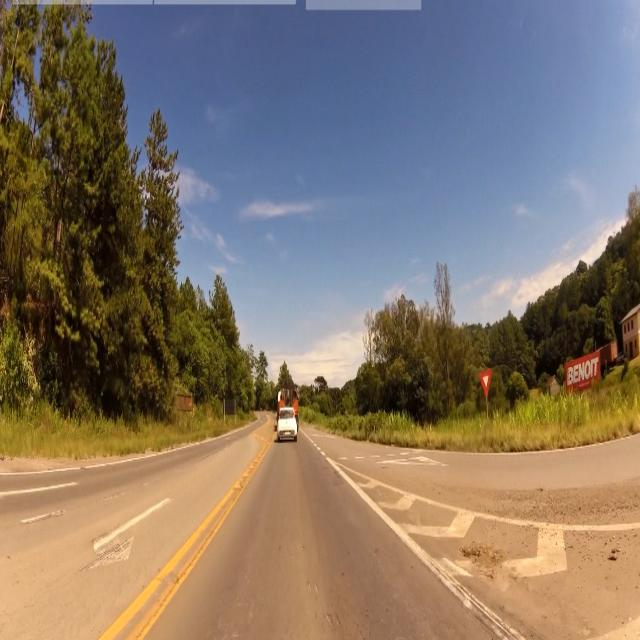R-2: (478, 366, 494, 396)
